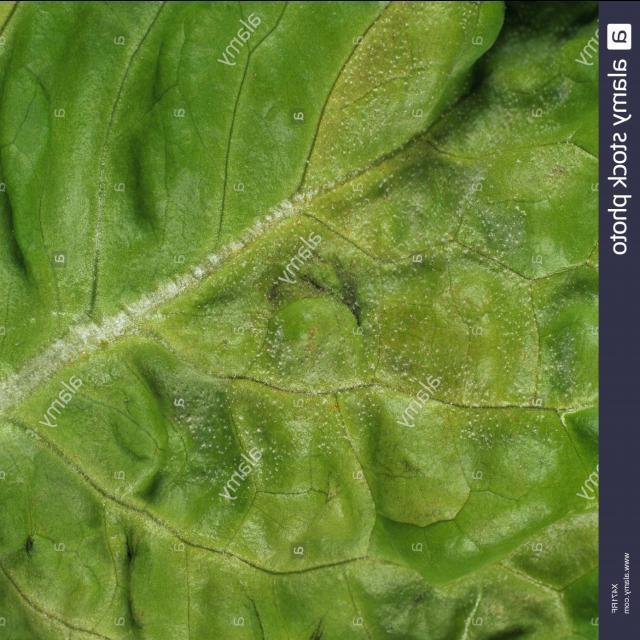Powdery_mildew_on_lettuce: (12, 168, 322, 438)
